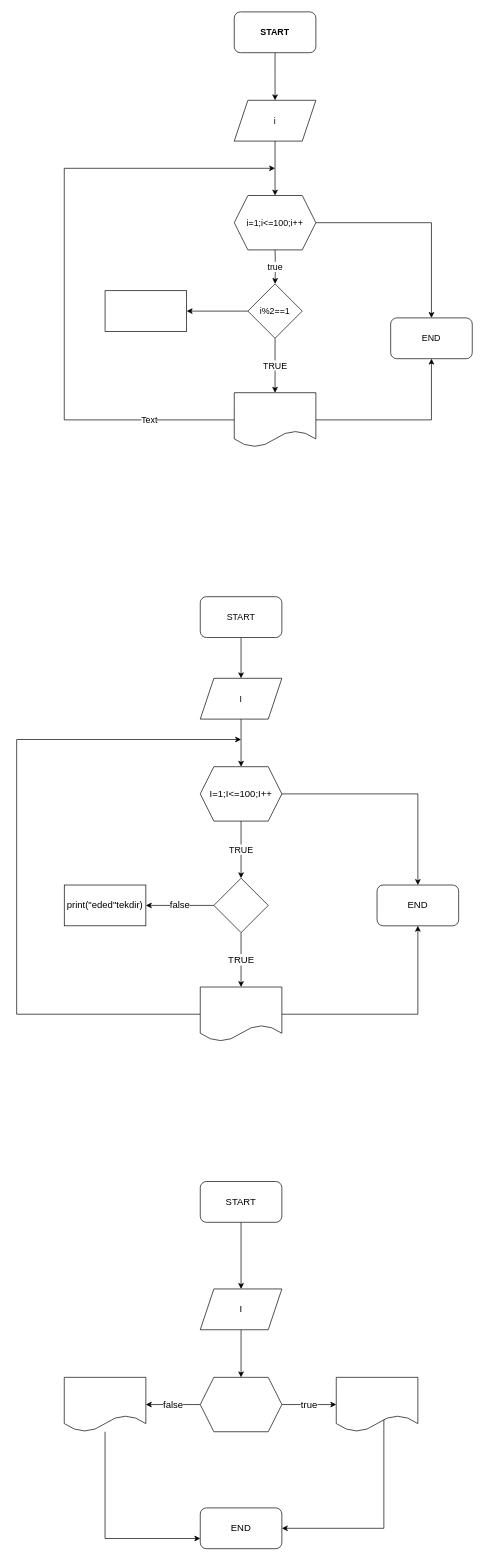
Some shapes in this 484 by 1561 pixel diagram are drawn without their labels. The shapes that lost their labels are listed below. From the top down, each one's centre as x and y in pixels, then its label:
pixel 145 311: print("eded cutdur")
pixel 275 419: print(summa"i")
pixel 240 905: I%2==0
pixel 241 1013: print(count"i")
pixel 105 1404: print("2 nin quvveti deyil")
pixel 241 1404: I=2;1*
pixel 377 1404: print("i")
